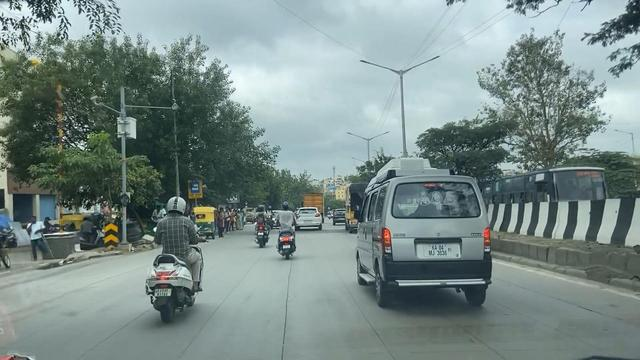LMV: (366, 176, 502, 314), (147, 198, 204, 327)
